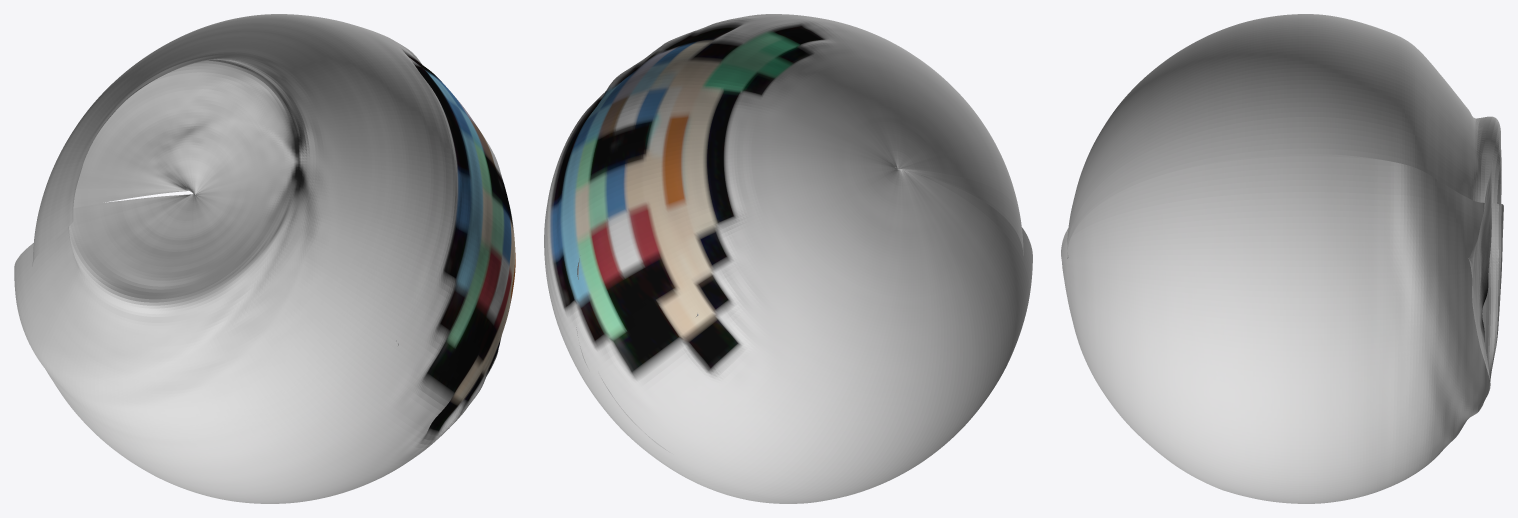
Rendered from tmpv6fi4mb2.glb.
3 views of the same model, side by side, from view 1: azimuth 30°, elevation 25°; view 2: azimuth 150°, elevation 25°; view 3: azimuth 270°, elevation 25° (orthographic).
Visible parts, largest first — view 1: world; view 2: world; view 3: world.
Part boxes in pixels (x1=…): world: x1=14, y1=14, x2=515, y2=503; world: x1=544, y1=14, x2=1032, y2=503; world: x1=1061, y1=14, x2=1503, y2=503.
Size of the model in its own units: 4.24 by 4.2 by 3.79.
